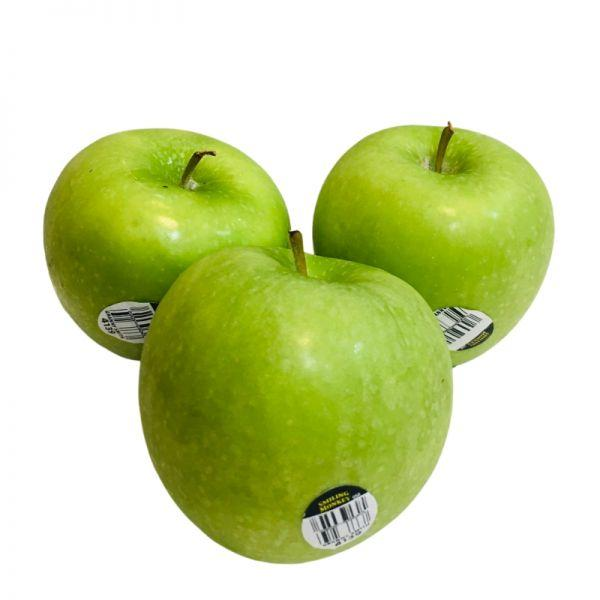apples: (20, 93, 547, 559)
